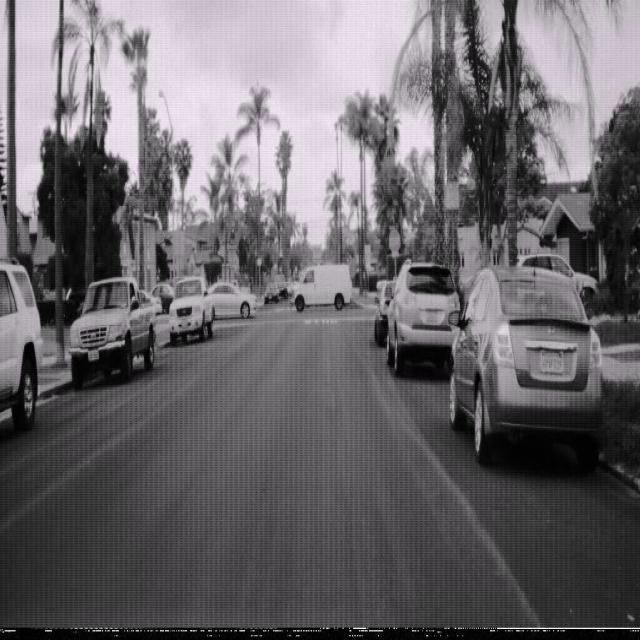stop: (388, 227, 400, 254)
